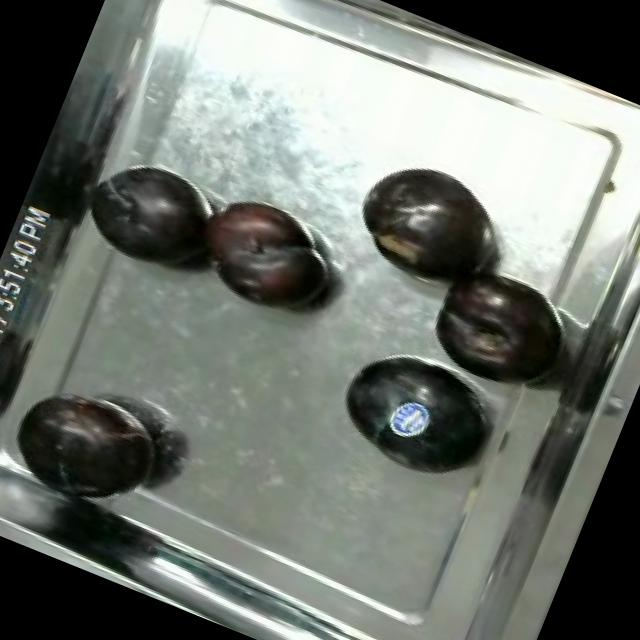Fruit: (316, 326, 510, 498), (0, 361, 183, 524), (338, 142, 520, 304), (176, 181, 352, 334), (412, 251, 578, 404), (74, 146, 227, 286)
